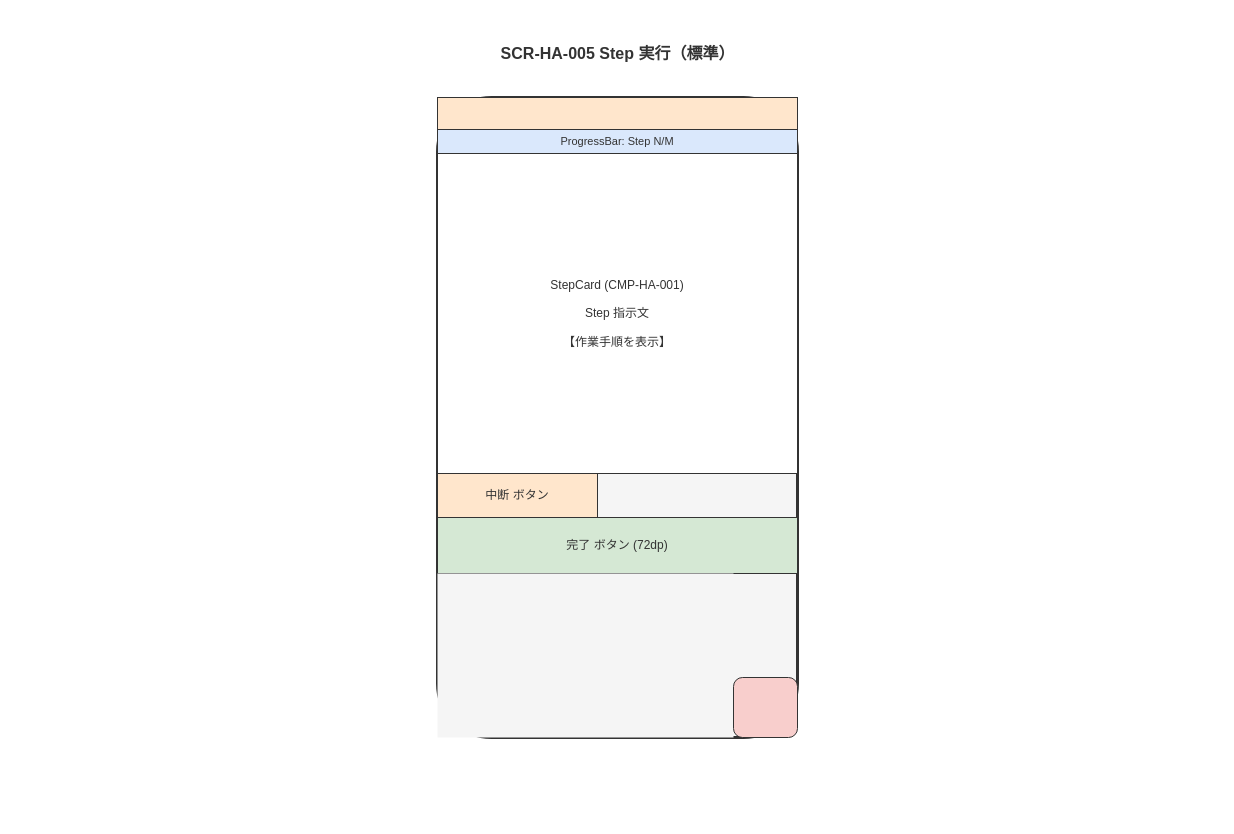
The diagram is 1234 pixels wide and 834 high, and some of its shapes have lost their labels. Each missing label, with the box of its shape:
Andon (CMP-HA-008): (732, 676, 798, 738)
OfflineBanner: (436, 96, 798, 130)
